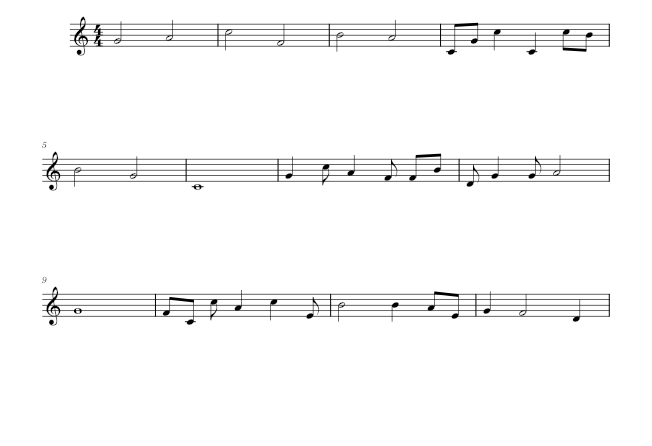Treble Clef: (69, 13, 91, 60), (44, 149, 63, 195), (44, 286, 63, 328)
